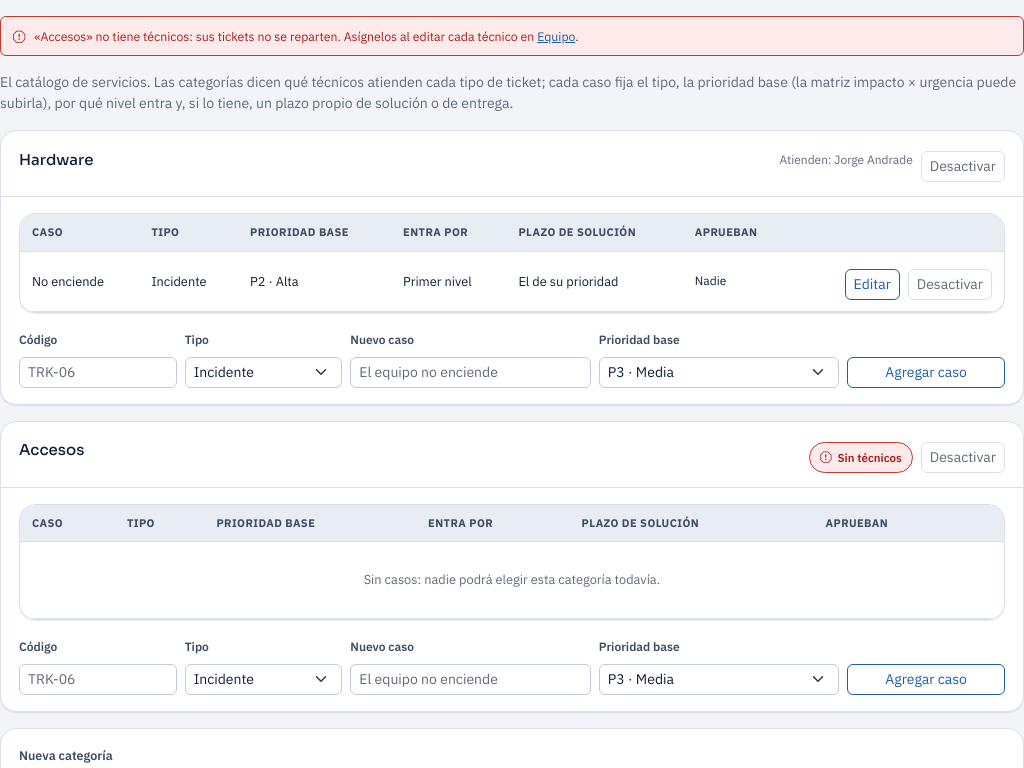
Test: Categorías y casos › desactivar una categoría pregunta y dice qué pasa
Click the button with aria-label "Desactivar la categoría Hardware" at {"x": 963, "y": 167}, box top-left (921, 151), bottom-right (1005, 182)
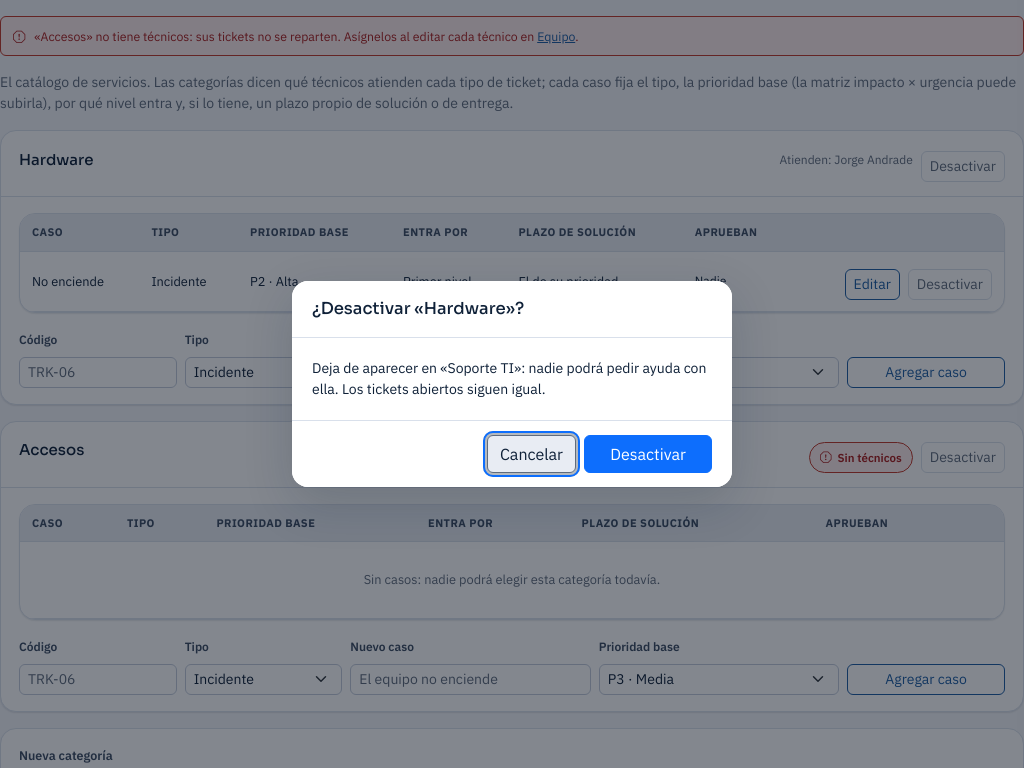
Result: the dialog "¿Desactivar «Hardware»?" shows "Los tickets abiertos siguen igual." at top-left (312, 359), bottom-right (706, 398)
